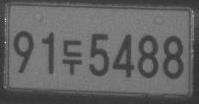1: (38, 31, 60, 74)
4: (111, 33, 135, 78)
5: (88, 33, 109, 77)
8: (162, 34, 184, 79), (137, 34, 159, 78)
9: (12, 29, 34, 74)
두: (61, 39, 82, 76)
